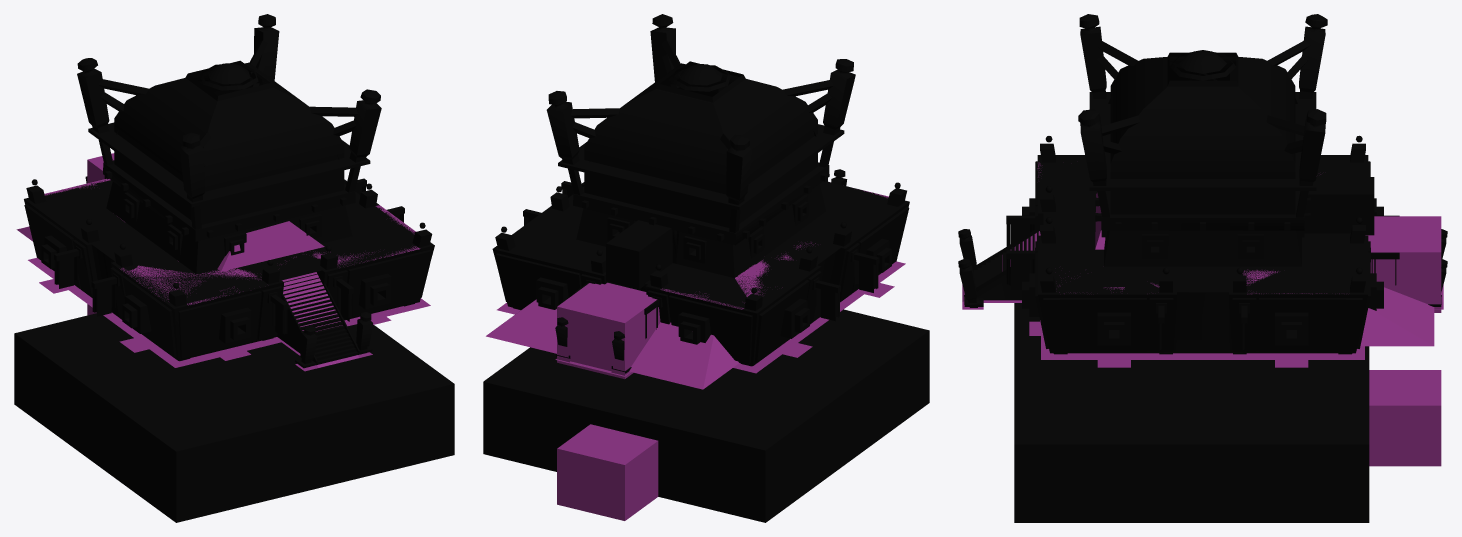
The model's file is zo_cn_mairie.max.fobj.obj.
The picture shows the model from 3 angles, left to right: view 1: azimuth 30°, elevation 25°; view 2: azimuth 150°, elevation 25°; view 3: azimuth 270°, elevation 25°; orthographic projection. The views are drawn at different scales.
Visible parts, largest first — view 1: zo_mairie_ext, initialShadingGroup zo_cluster_mairie_sFBXASC045sol, zo_mairie_rdc, zo_mairie_col_1er, zo_mairie_col_ext, initialShadingGroup zo_cluster_mairie_int; view 2: zo_mairie_ext, initialShadingGroup zo_cluster_mairie_sFBXASC045sol, zo_mairie_rdc, initialShadingGroup zo_cluster_mairie_ascensFBXASC045sFBXASC045s, initialShadingGroup zo_portal_mairie_porteFBXASC045ascensFBXASC0, initialShadingGroup zo_cluster_mairie_int, initialShadingGroup zo_cluster_mairie_entree, zo_mairie_col_ext, zo_mairie_col_1er; view 3: zo_mairie_ext, initialShadingGroup zo_cluster_mairie_sFBXASC045sol, zo_mairie_rdc, initialShadingGroup zo_cluster_mairie_ascensFBXASC045sFBXASC045s, initialShadingGroup zo_portal_mairie_porteFBXASC045ascensFBXASC0, initialShadingGroup zo_cluster_mairie_int, initialShadingGroup zo_cluster_mairie_entree, zo_mairie_col_ext, zo_mairie_col_1er.
Boxes of the visible parts, <box> form: zo_mairie_ext: <box>24,14,434,368</box>; initialShadingGroup zo_cluster_mairie_sFBXASC045sol: <box>14,313,454,522</box>; zo_mairie_rdc: <box>37,68,414,334</box>; zo_mairie_col_1er: <box>44,178,420,367</box>; zo_mairie_col_ext: <box>28,258,430,371</box>; initialShadingGroup zo_cluster_mairie_int: <box>16,221,324,271</box>; zo_mairie_ext: <box>492,14,909,373</box>; initialShadingGroup zo_cluster_mairie_sFBXASC045sol: <box>483,309,929,522</box>; zo_mairie_rdc: <box>510,69,896,325</box>; initialShadingGroup zo_cluster_mairie_ascensFBXASC045sFBXASC045s: <box>557,424,658,520</box>; initialShadingGroup zo_portal_mairie_porteFBXASC045ascensFBXASC0: <box>557,282,660,379</box>; initialShadingGroup zo_cluster_mairie_int: <box>486,299,738,389</box>; initialShadingGroup zo_cluster_mairie_entree: <box>606,220,672,289</box>; zo_mairie_col_ext: <box>497,261,905,376</box>; zo_mairie_col_1er: <box>569,187,888,373</box>; zo_mairie_ext: <box>958,14,1447,354</box>; initialShadingGroup zo_cluster_mairie_sFBXASC045sol: <box>1014,303,1369,522</box>; zo_mairie_rdc: <box>1043,58,1362,339</box>; initialShadingGroup zo_cluster_mairie_ascensFBXASC045sFBXASC045s: <box>1369,370,1441,466</box>; initialShadingGroup zo_portal_mairie_porteFBXASC045ascensFBXASC0: <box>1365,216,1441,312</box>; initialShadingGroup zo_cluster_mairie_int: <box>1095,192,1434,346</box>; initialShadingGroup zo_cluster_mairie_entree: <box>1304,177,1374,235</box>; zo_mairie_col_ext: <box>962,300,1443,367</box>; zo_mairie_col_1er: <box>962,162,1443,301</box>.
Size of the model in its own units: 2785 by 3091 by 3463.
